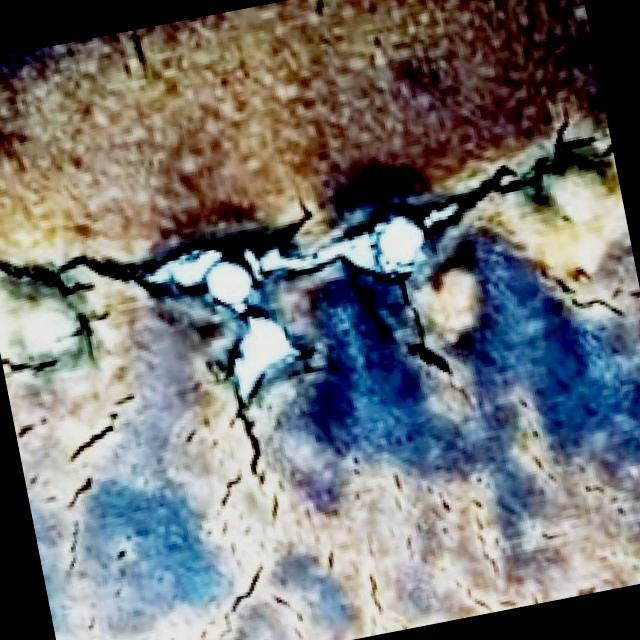crack: (352, 246, 476, 388), (453, 142, 587, 232)
